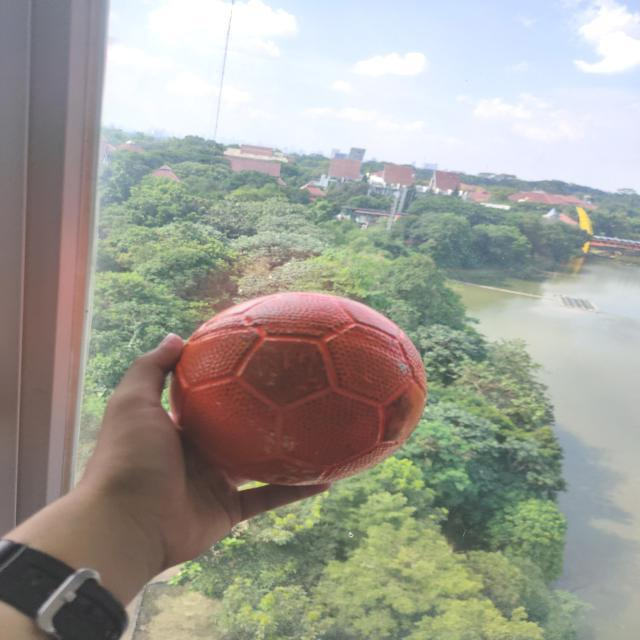bola: (156, 284, 437, 490)
